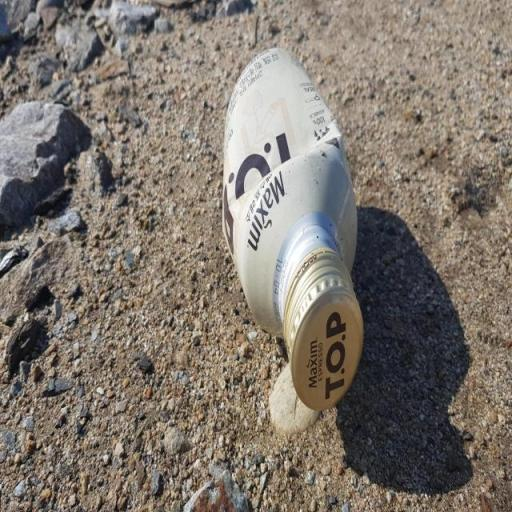metal: (212, 28, 383, 446)
